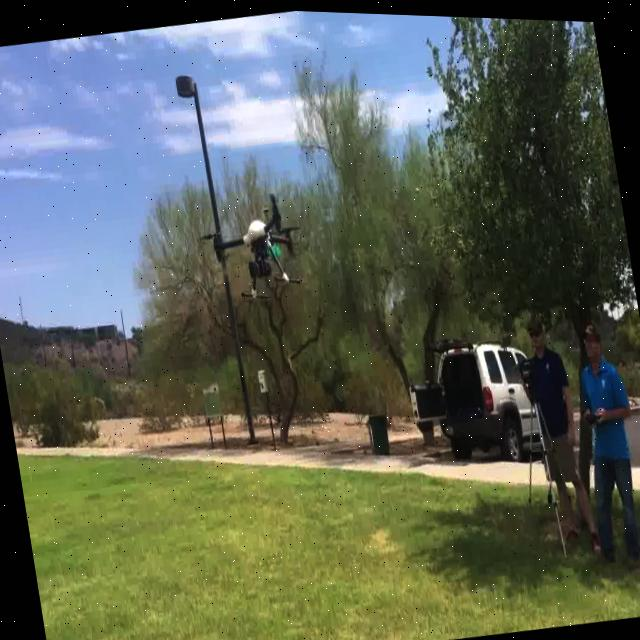drone: (204, 187, 308, 307)
